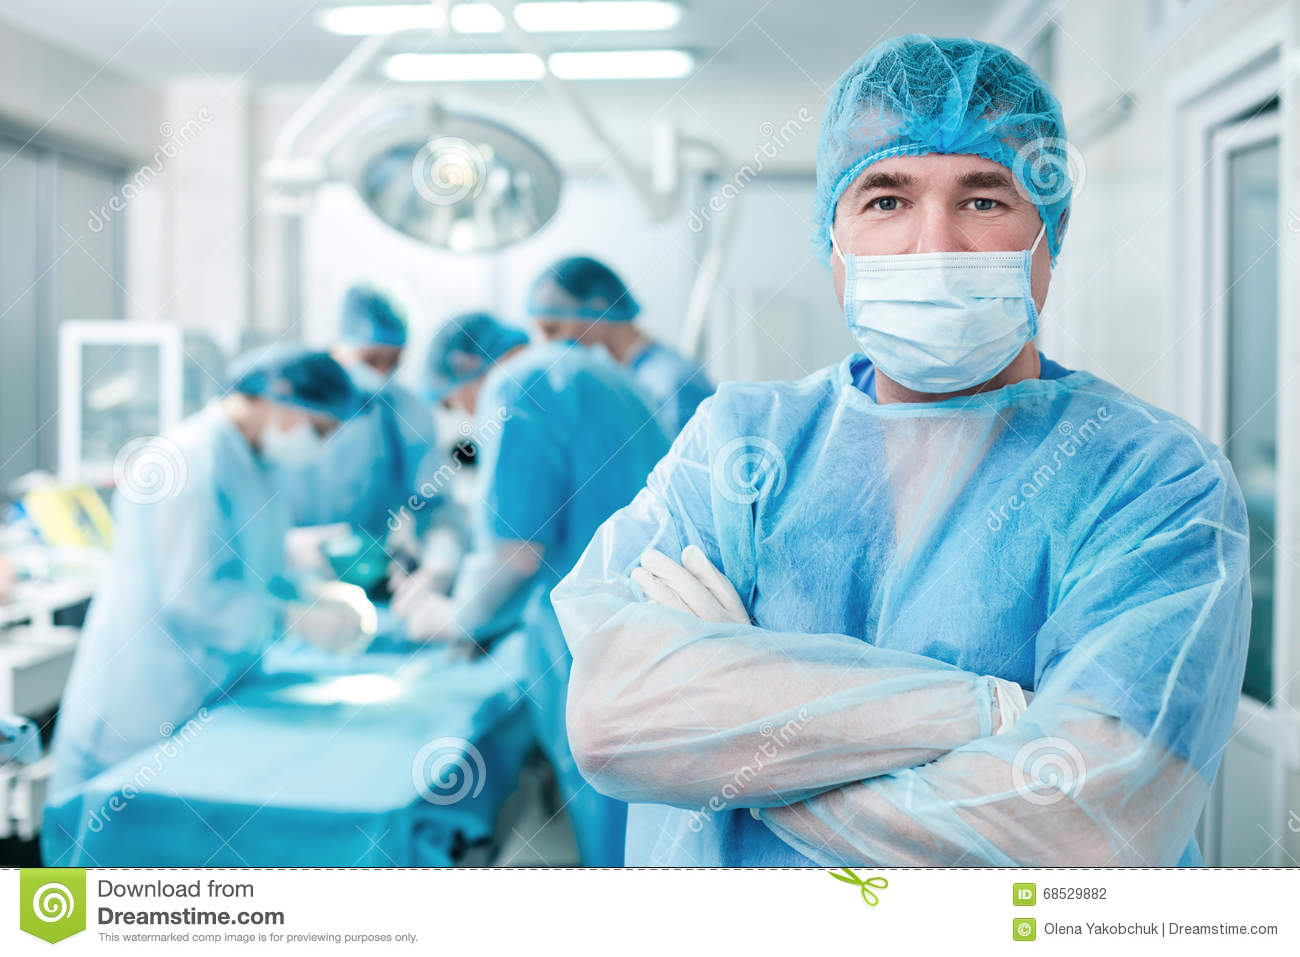mask: (842, 252, 1030, 399)
